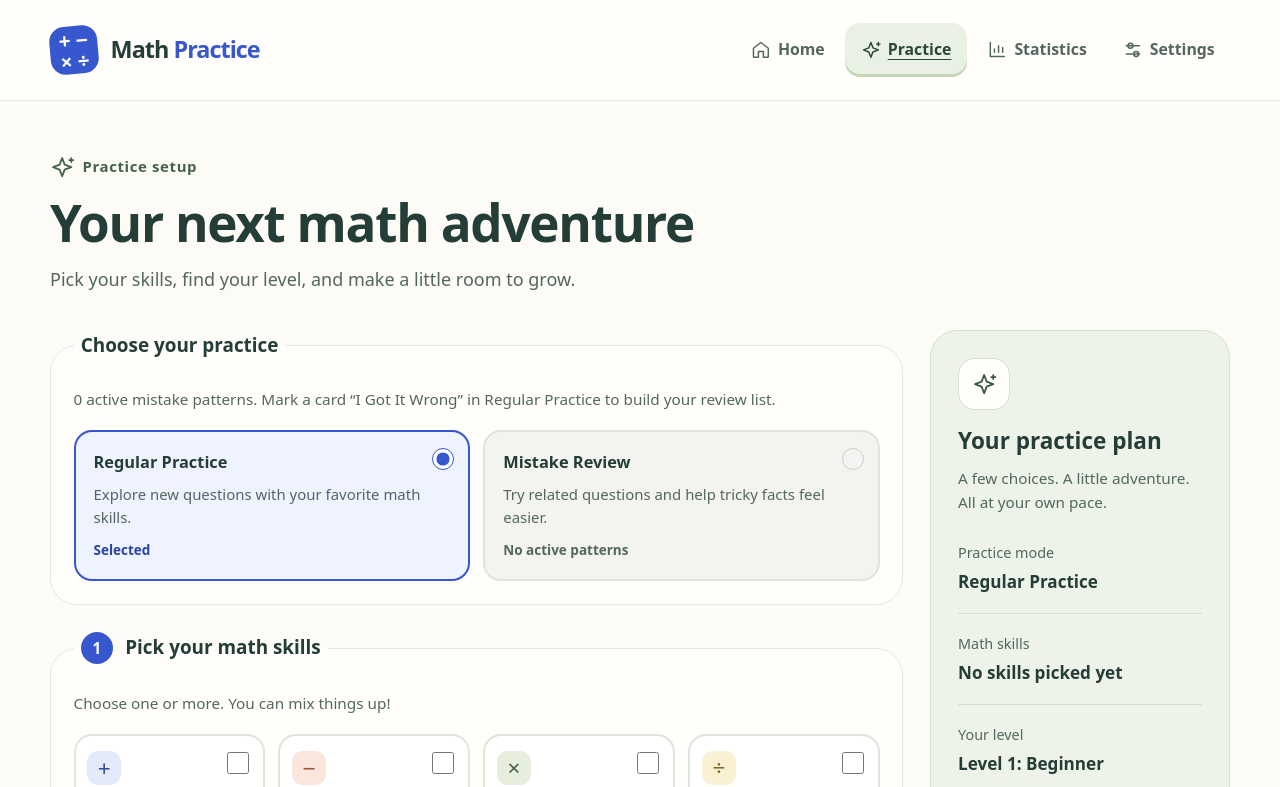
Scenario: a failed start action stays usable, hides technical details, and can be retried
The image size is (1280, 787).
Click the checkbox labelled "Addition".
click(238, 763)  # box [227,752,249,774]
(page scrolled)
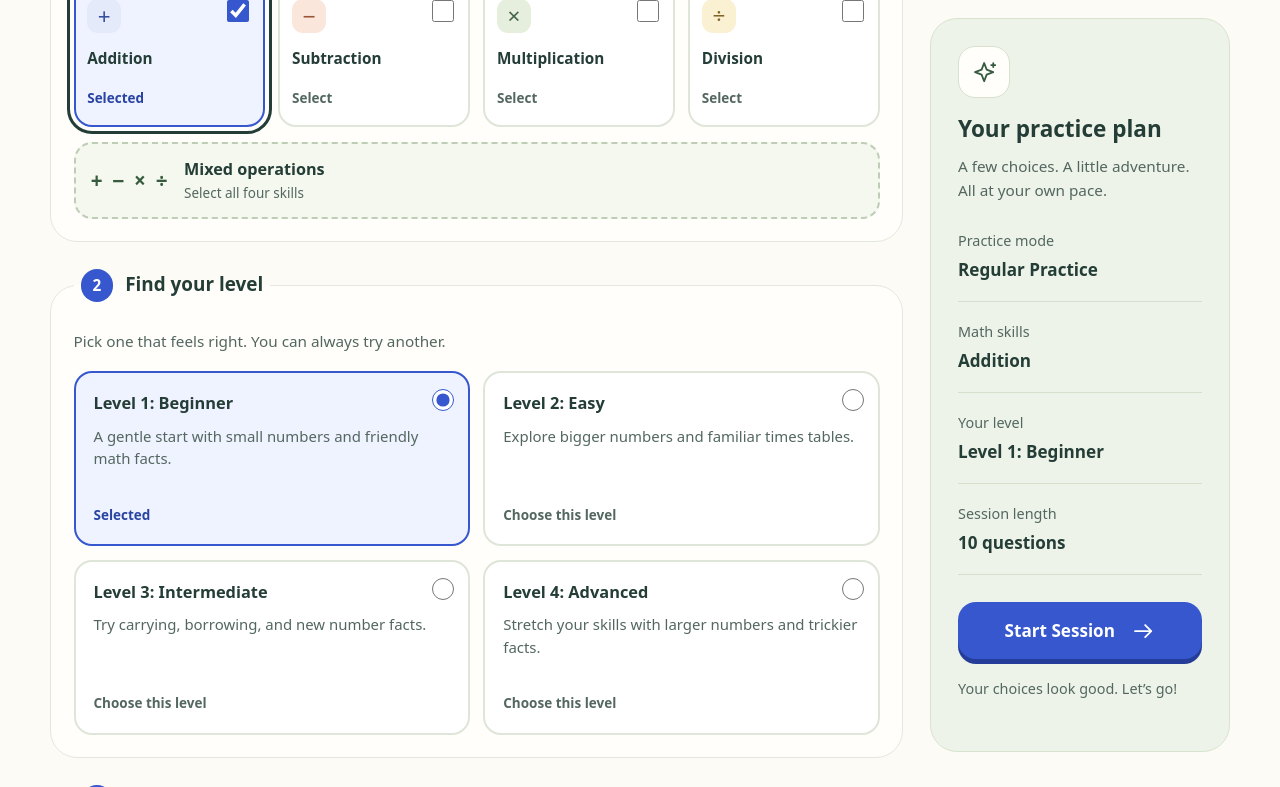
Click the radio button labelled "Level 1: Beginner".
click(443, 400)  # box [432,389,454,411]
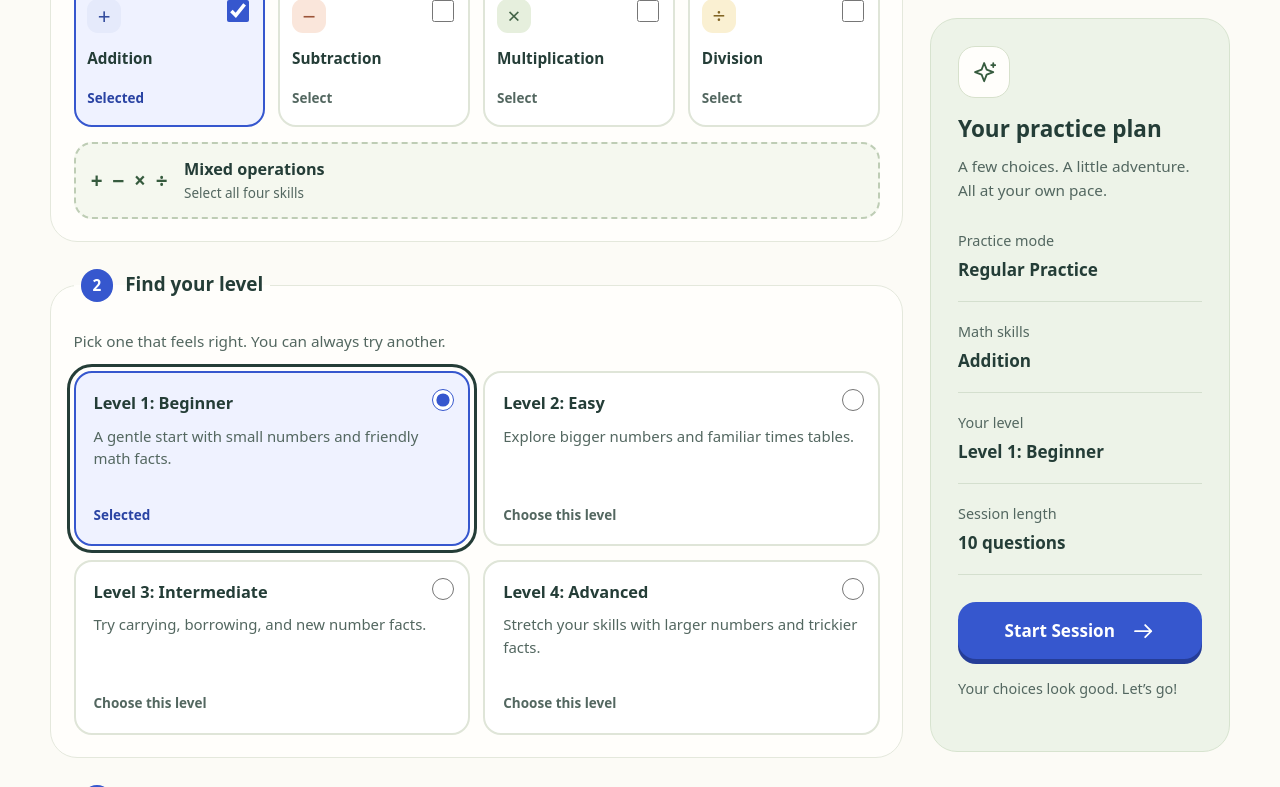
Click the button "Start Session".
click(1080, 631)  # box [958,602,1202,660]
(page scrolled)
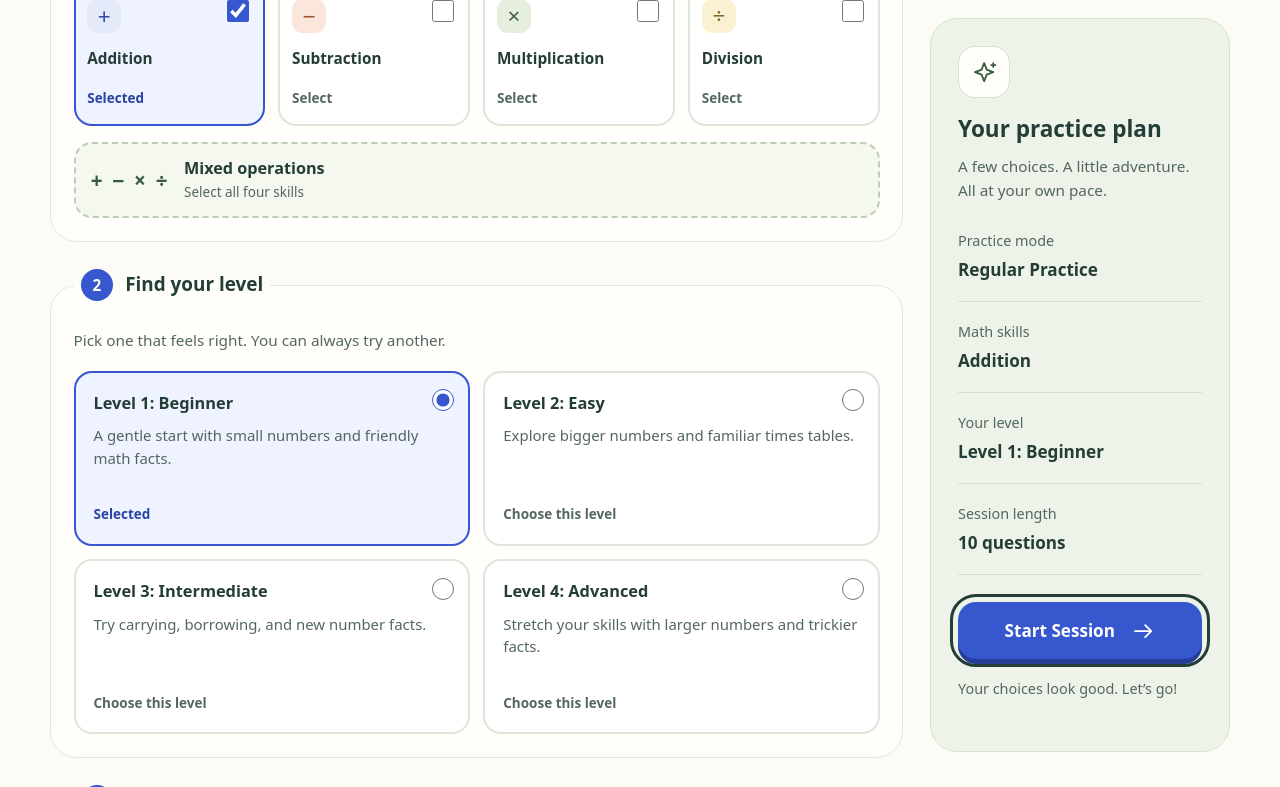
Click the button "Start Session".
click(1080, 631)  # box [958,602,1202,660]
(page scrolled)
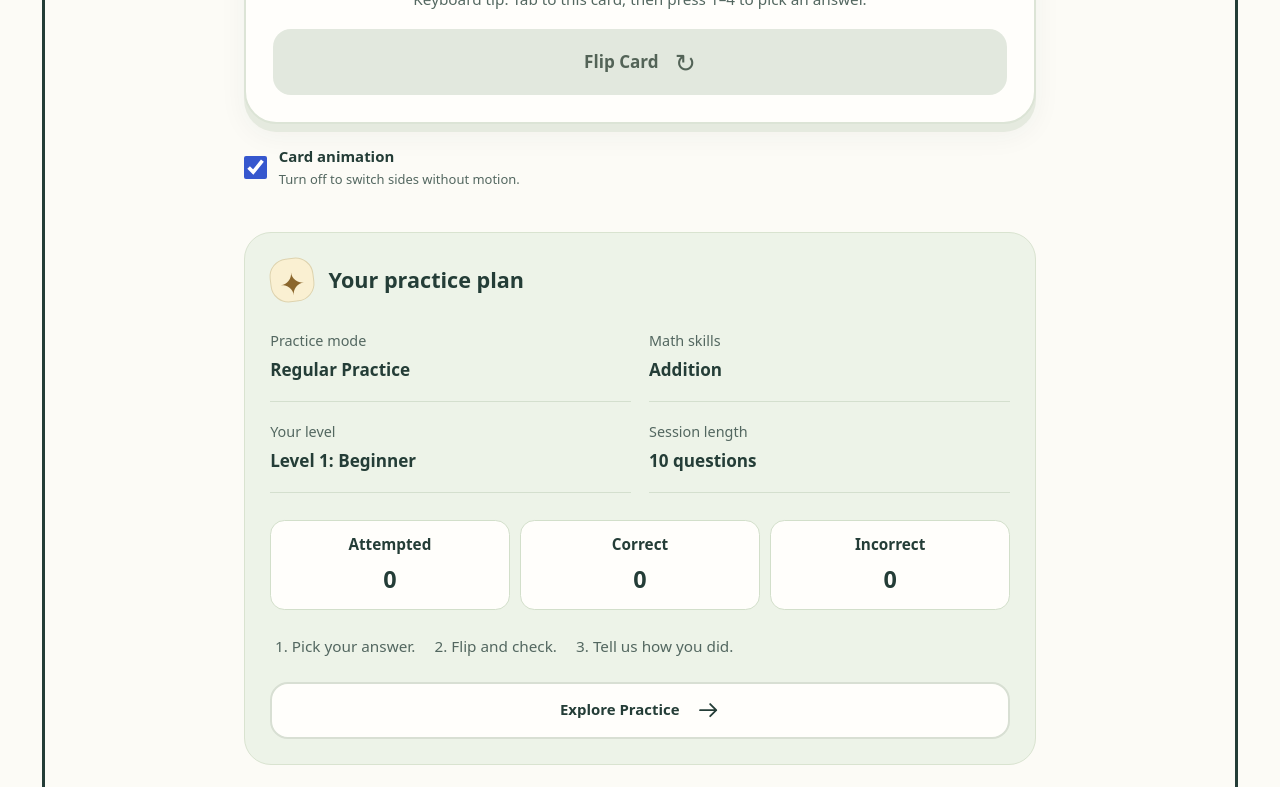
Now the button "Flip Card ↻" is disabled, box [273,29,1007,95]
Now the message "Your choices look good. Let’s go!" is gone
